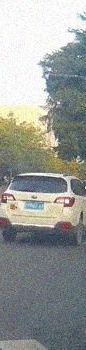L_light: (1, 193, 16, 203)
R_light: (54, 196, 76, 207)
T_light: (35, 176, 46, 178)
day-right: (0, 172, 78, 245)
